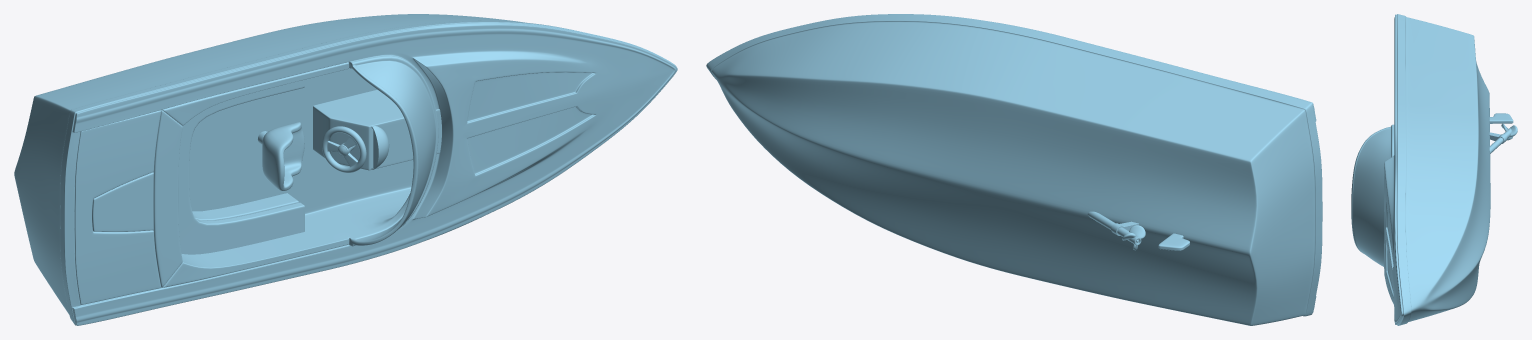
Rendered from boat.glb.
The picture shows the model from 3 angles, left to right: view 1: azimuth 30°, elevation 25°; view 2: azimuth 150°, elevation 25°; view 3: azimuth 270°, elevation 25°; orthographic projection. The views are drawn at different scales.
Parts seen in each view (by area): view 1: 15211_Wakeboard_v1_NEW; view 2: 15211_Wakeboard_v1_NEW; view 3: 15211_Wakeboard_v1_NEW.
Part boxes in pixels (x1=…): 15211_Wakeboard_v1_NEW: x1=14, y1=14, x2=677, y2=325; 15211_Wakeboard_v1_NEW: x1=706, y1=14, x2=1322, y2=325; 15211_Wakeboard_v1_NEW: x1=1351, y1=14, x2=1517, y2=325.
Size of the model in its own units: 512 by 178 by 160.
